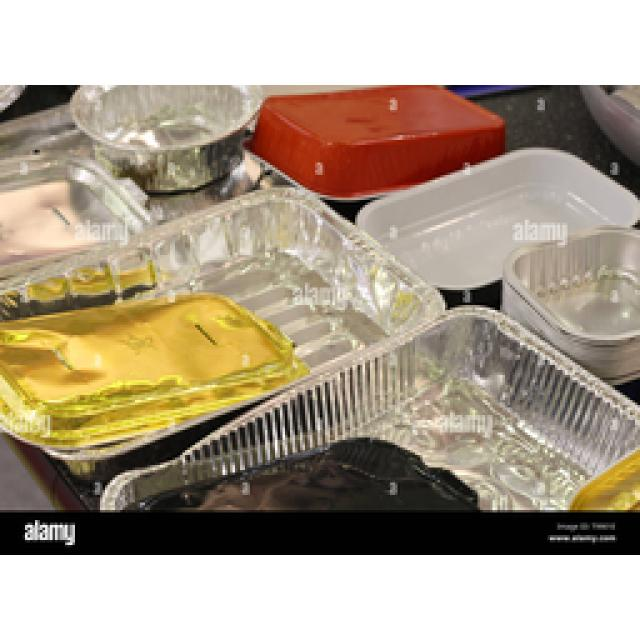alumunium: (0, 85, 638, 508)
